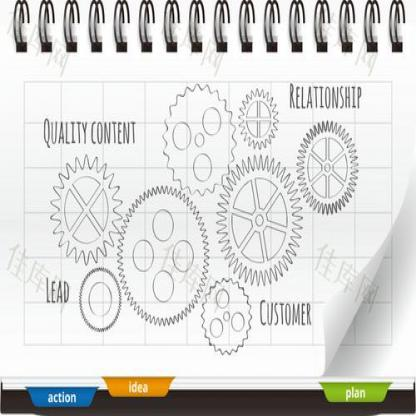FOD: (214, 153, 302, 285), (49, 151, 122, 266)
